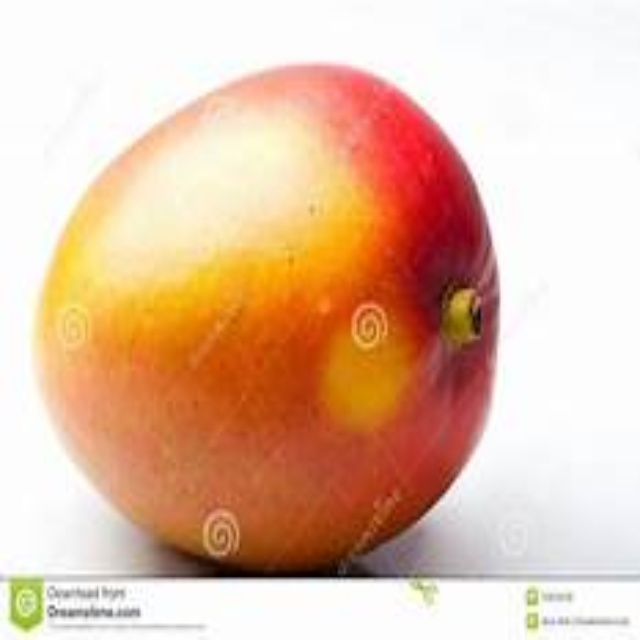mango: (33, 64, 500, 576)
